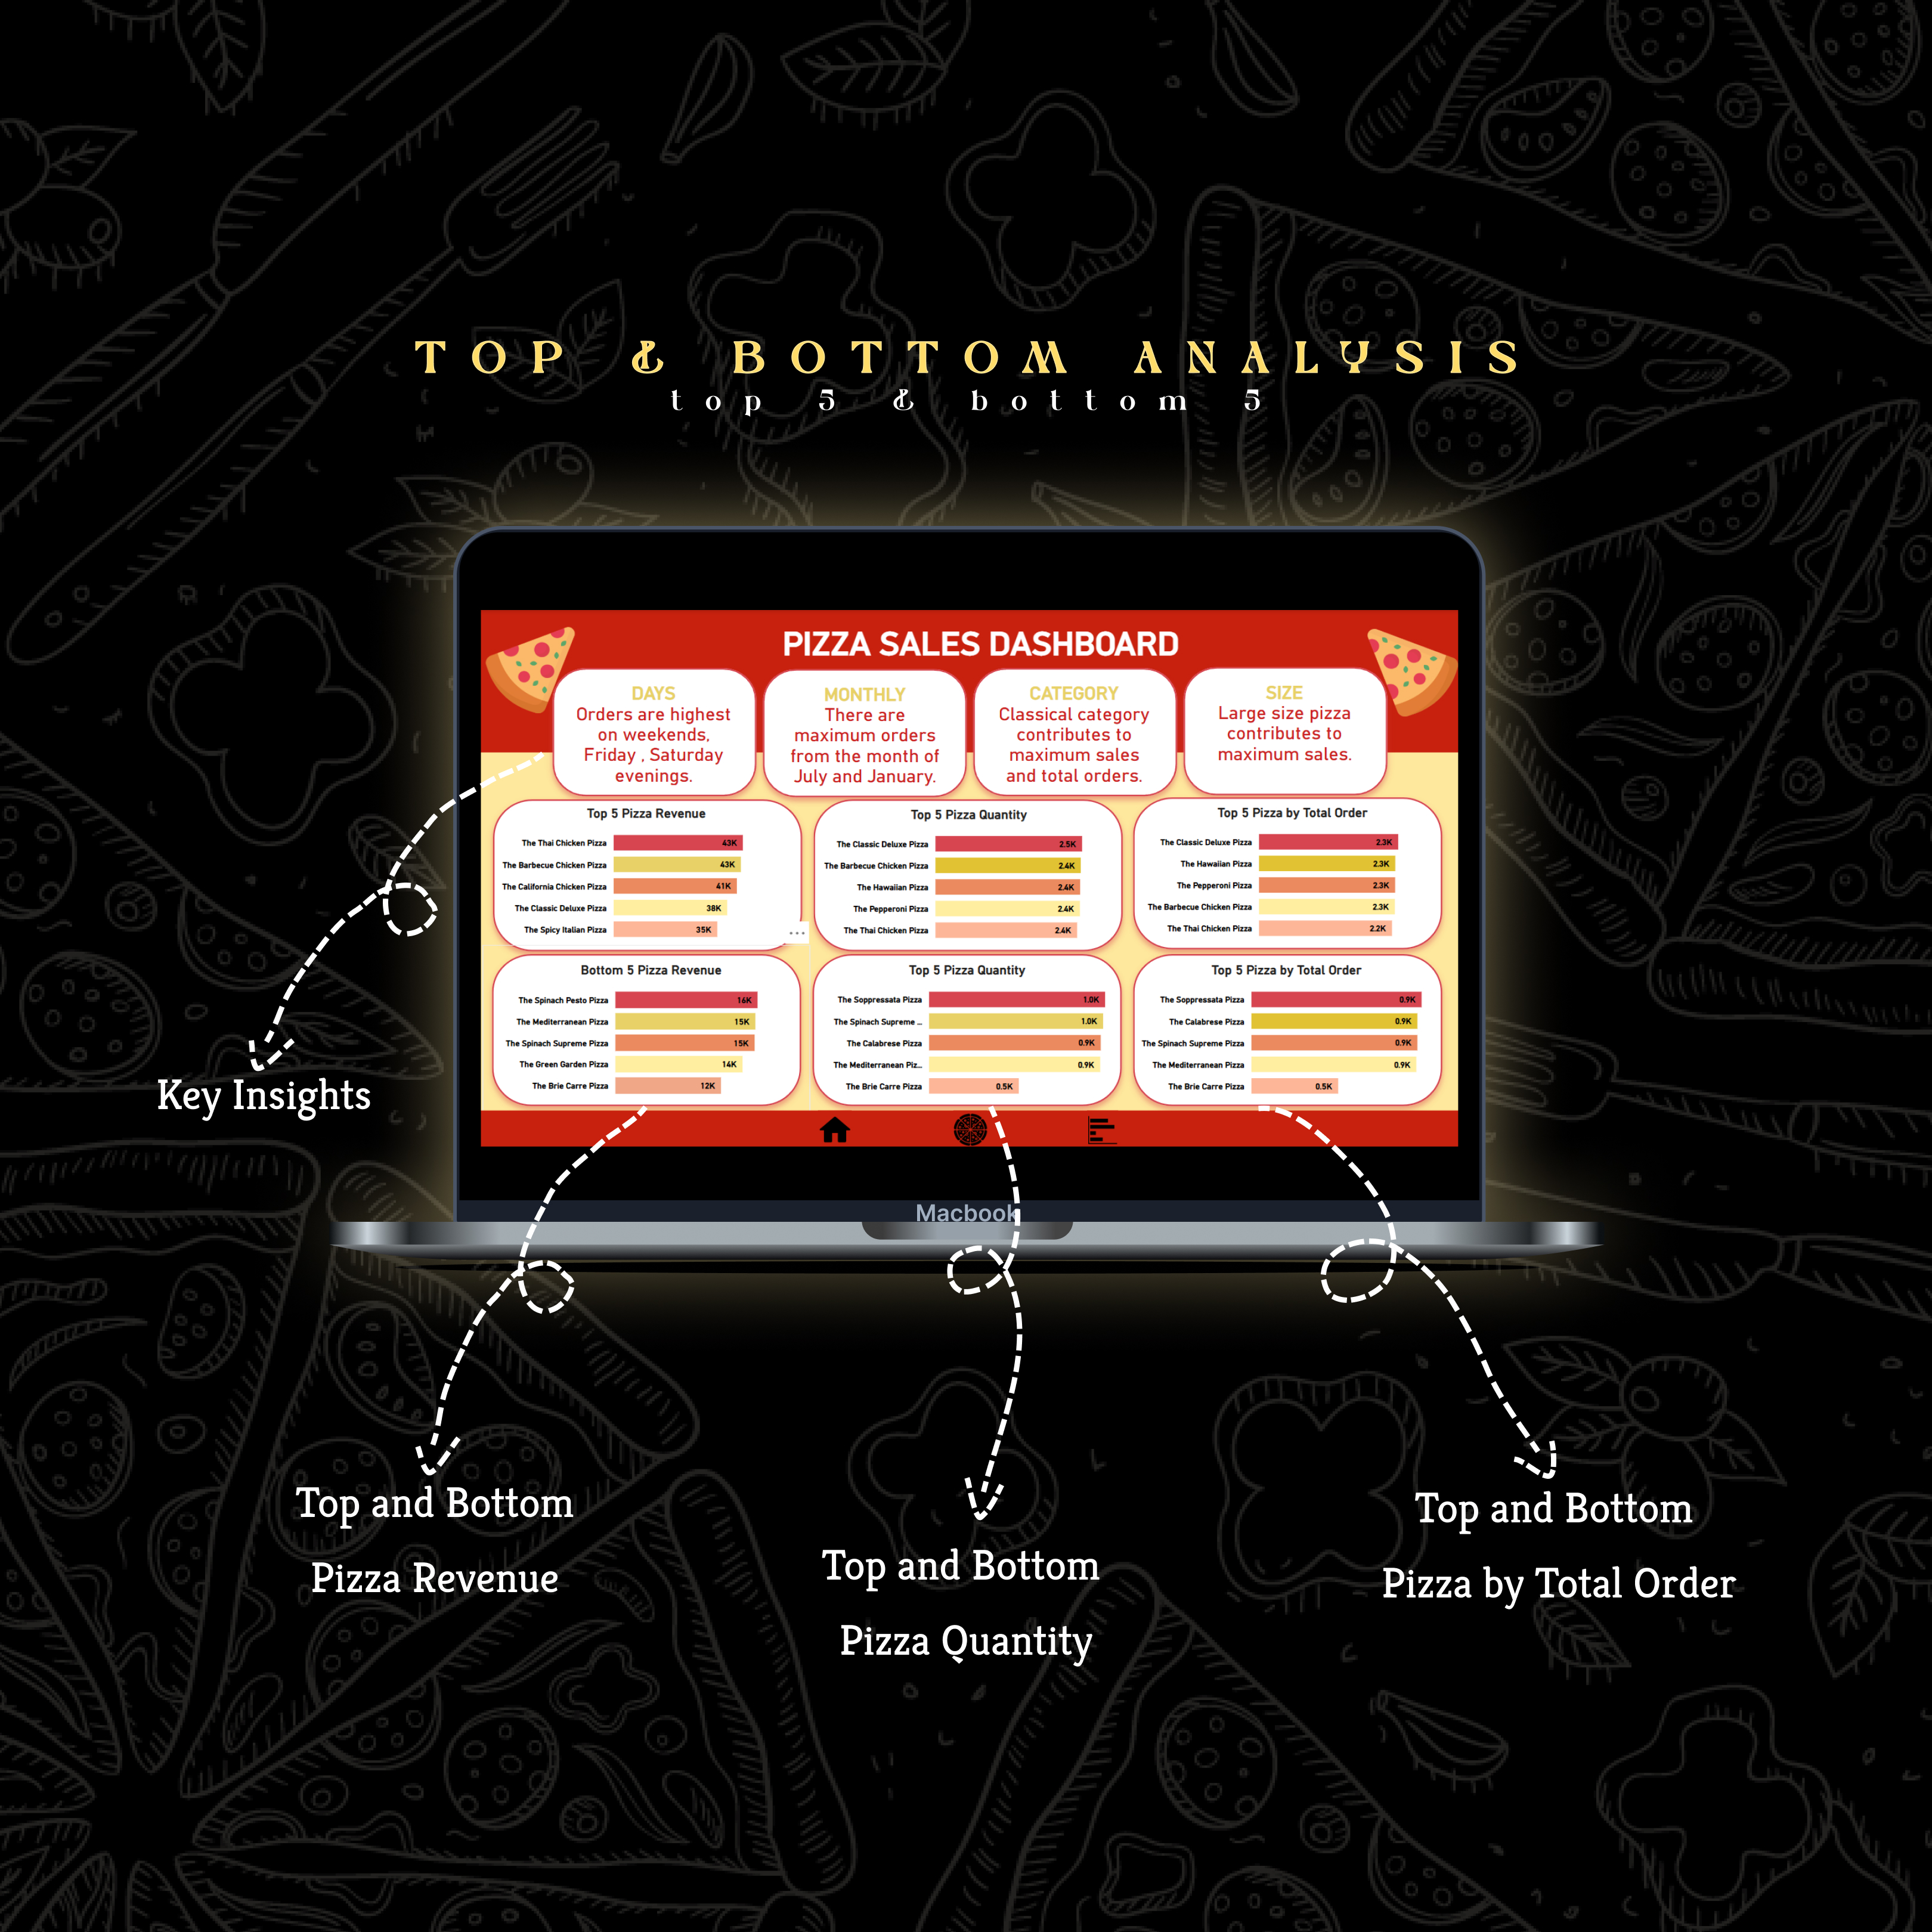

What the dashboard file says about the page in this screenshot:
{"tool":"powerbi","page":{"name":"Top and Bottom","canvas":[1280,720],"ordinal":1},"visuals":[{"type":"shape","box":[0,0,1280,190],"z":0},{"type":"image","box":[5,0.5,131.2,160],"z":1000},{"type":"group","id":"g1","title":"Group 1","box":[902.7,63.9,287.7,195.3],"z":1000,"group":"g11"},{"type":"group","id":"g2","title":"Group 1","box":[88,65.4,287.7,195.3],"z":1000,"group":"g8"},{"type":"group","id":"g3","title":"Group 1","box":[631.6,65.4,287.7,195.3],"z":1000,"group":"g10"},{"type":"group","id":"g4","title":"Group 1","box":[359.6,66.9,287.7,195.3],"z":1000,"group":"g9"},{"type":"group","id":"g5","title":"Group 1","box":[838.2,238,424,227.1],"z":1000,"group":"g16"},{"type":"group","id":"g6","title":"Group 1","box":[10.2,240,424,227.1],"z":1000,"group":"g13"},{"type":"group","id":"g7","title":"Group 1","box":[424.3,240.2,424,227.1],"z":1000,"group":"g14"},{"type":"textbox","box":[392,14,544,66],"z":2000},{"type":"image","box":[1143.8,16.6,136.2,133.1],"z":3000},{"type":"shape","box":[902.7,63.9,287.7,195.3],"z":3500,"group":"g1"},{"type":"shape","box":[88,65.4,287.7,195.3],"z":3500,"group":"g2"},{"type":"shape","box":[631.6,65.4,287.7,195.3],"z":3500,"group":"g3"},{"type":"shape","box":[359.6,66.9,287.7,195.3],"z":3500,"group":"g4"},{"type":"shape","box":[838.2,238,424,227.1],"z":3500,"group":"g5"},{"type":"shape","box":[10.2,240,424,227.1],"z":3500,"group":"g6"},{"type":"shape","box":[424.3,240.2,424,227.1],"z":3500,"group":"g7"},{"type":"group","id":"g8","title":"Group 2","box":[88,65.4,287.7,195.3],"z":4000},{"type":"shape","box":[8.8,446.2,424,227.1],"z":4000,"group":"g15"},{"type":"group","id":"g9","title":"Group 2","box":[359.6,66.9,287.7,195.3],"z":5000},{"type":"textbox","box":[934.5,89.6,222.6,146.9],"z":5000,"group":"g11"},{"type":"textbox","box":[119.8,91.1,222.6,146.9],"z":5000,"group":"g8"},{"type":"textbox","box":[663.4,91.1,222.6,146.9],"z":5000,"group":"g10"},{"type":"textbox","box":[392.9,92.6,222.6,146.9],"z":5000,"group":"g9"},{"type":"group","id":"g10","title":"Group 2","box":[631.6,65.4,287.7,195.3],"z":6000},{"type":"group","id":"g11","title":"Group 2","box":[902.7,63.9,287.7,195.3],"z":7000},{"type":"group","id":"g12","title":"Group 3","box":[10.2,240,424,226],"z":8000},{"type":"group","id":"g13","title":"Group 2","box":[10.2,240,424.2,226.7],"z":9000,"group":"g12"},{"type":"group","id":"g14","title":"Group 2","box":[424.3,240.2,424,227.1],"z":9000,"group":"g17"},{"type":"group","id":"g15","title":"Group 4","box":[8.8,446.2,423.8,227.5],"z":9000},{"type":"group","id":"g16","title":"Group 2","box":[838.2,238,424,227.1],"z":10000,"group":"g19"},{"type":"group","id":"g17","title":"Group 5","box":[424.3,240.2,424,227.1],"z":10000},{"type":"group","id":"g18","title":"Group 6","box":[423.8,446.2,423.8,227.5],"z":11000},{"type":"shape","box":[423.8,446.2,424,227.1],"z":11000,"group":"g18"},{"type":"group","id":"g19","title":"Group 7","box":[838.2,238,424,228],"z":12000},{"type":"shape","box":[837.5,446.2,424,227.1],"z":12000,"group":"g20"},{"type":"group","id":"g20","title":"Group 8","box":[837.5,446.2,423.8,227.5],"z":13000},{"type":"barChart","title":"Bottom 5 Pizza Revenue","fields":{"Category":["pizza_sales.pizza_name"],"Y":["Sum(pizza_sales.total_price)"]},"box":[32.2,469.5,388.9,192.6],"z":13000,"group":"g15"},{"type":"barChart","title":"Top 5 Pizza Revenue","fields":{"Category":["pizza_sales.pizza_name"],"Y":["Sum(pizza_sales.total_price)"]},"box":[26.9,261,387,192.6],"z":14000,"group":"g12"},{"type":"barChart","title":"Top 5 Pizza Quantity","fields":{"Category":["pizza_sales.pizza_name"],"Y":["Sum(pizza_sales.quantity)"]},"box":[443.8,262.2,387,192.6],"z":14000,"group":"g17"},{"type":"shape","box":[0,667.5,1280,52.5],"z":14000},{"type":"barChart","title":"Top 5 Pizza Quantity","fields":{"Category":["pizza_sales.pizza_name"],"Y":["Sum(pizza_sales.quantity)"]},"box":[443.5,469.5,385.1,192.6],"z":15000,"group":"g18"},{"type":"actionButton","box":[443.3,667.8,43.3,52.2],"z":15000},{"type":"barChart","title":"Top 5 Pizza by Total Order","fields":{"Category":["pizza_sales.pizza_name"],"Y":["Count(pizza_sales.order_id)"]},"box":[863.2,260.5,387,192.6],"z":16000,"group":"g19"},{"type":"actionButton","box":[618.3,668.3,43.3,51.7],"z":16000},{"type":"barChart","title":"Top 5 Pizza by Total Order","fields":{"Category":["pizza_sales.pizza_name"],"Y":["Count(pizza_sales.order_id)"]},"box":[854.6,469.5,387,192.6],"z":17000,"group":"g20"},{"type":"actionButton","box":[790,667.8,40,52.2],"z":17000}]}

Visuals, with their boxes on the page's 1280x720 design canvas (x1, y1, x2, y2). These are canvas units, not pixel positions in the 1932x1932 screenshot, which may show the page scaled, cropped or inside an application window:
shape: [0,0,1280,190]
image: [5,0,136,160]
"Group 1" group: [903,64,1190,259]
"Group 1" group: [88,65,376,261]
"Group 1" group: [632,65,919,261]
"Group 1" group: [360,67,647,262]
"Group 1" group: [838,238,1262,465]
"Group 1" group: [10,240,434,467]
"Group 1" group: [424,240,848,467]
textbox: [392,14,936,80]
image: [1144,17,1280,150]
shape: [903,64,1190,259]
shape: [88,65,376,261]
shape: [632,65,919,261]
shape: [360,67,647,262]
shape: [838,238,1262,465]
shape: [10,240,434,467]
shape: [424,240,848,467]
"Group 2" group: [88,65,376,261]
shape: [9,446,433,673]
"Group 2" group: [360,67,647,262]
textbox: [934,90,1157,236]
textbox: [120,91,342,238]
textbox: [663,91,886,238]
textbox: [393,93,616,240]
"Group 2" group: [632,65,919,261]
"Group 2" group: [903,64,1190,259]
"Group 3" group: [10,240,434,466]
"Group 2" group: [10,240,434,467]
"Group 2" group: [424,240,848,467]
"Group 4" group: [9,446,433,674]
"Group 2" group: [838,238,1262,465]
"Group 5" group: [424,240,848,467]
"Group 6" group: [424,446,848,674]
shape: [424,446,848,673]
"Group 7" group: [838,238,1262,466]
shape: [838,446,1262,673]
"Group 8" group: [838,446,1261,674]
"Bottom 5 Pizza Revenue" barChart: [32,470,421,662]
"Top 5 Pizza Revenue" barChart: [27,261,414,454]
"Top 5 Pizza Quantity" barChart: [444,262,831,455]
shape: [0,668,1280,720]
"Top 5 Pizza Quantity" barChart: [444,470,829,662]
actionButton: [443,668,487,720]
"Top 5 Pizza by Total Order" barChart: [863,260,1250,453]
actionButton: [618,668,662,720]
"Top 5 Pizza by Total Order" barChart: [855,470,1242,662]
actionButton: [790,668,830,720]
